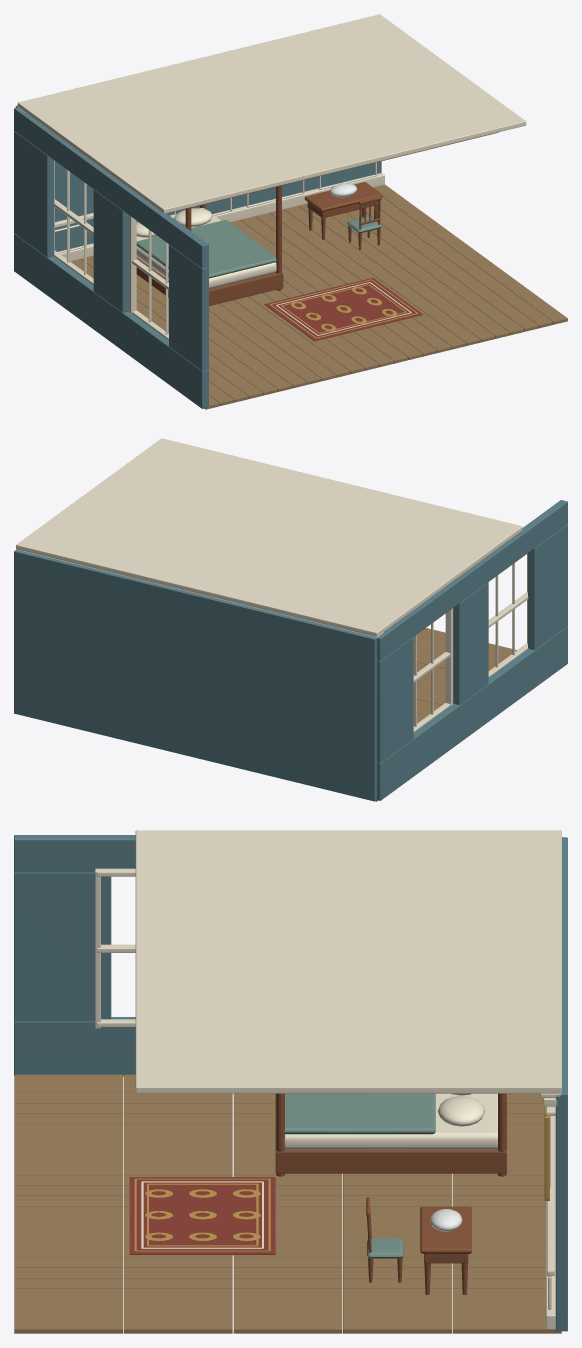
Rendered from bedroom.glb.
The picture shows the model from 3 angles, top to bottom: view 1: azimuth 30°, elevation 25°; view 2: azimuth 150°, elevation 25°; view 3: azimuth 270°, elevation 25°; orthographic projection. The views are drawn at different scales.
Visible parts, largest first — view 1: Plaster ceiling, Left wall sill, Left wall lintel, Woven carpet, Left wall pier.002, Left wall pier, Back wall, Left wall pier.001, Silk counterpane, Guest bed mahogany frame, Back moulding, Guest mattress (+53 smaller); view 2: Back wall, Plaster ceiling, Left wall sill, Left wall lintel, Left wall pier, Left wall pier.002, Left wall pier.001, Window casing.002; view 3: Plaster ceiling, Left wall pier, Woven carpet, Left wall sill, Silk counterpane, Guest bed mahogany frame, Guest mattress, Back wall, Left wall lintel, Mahogany tabletop, Individual oak floorboard.120, Individual oak floorboard.122 (+87 smaller).
Boxes of the visible parts, x1=… form: Plaster ceiling: x1=17, y1=14, x2=526, y2=213; Left wall sill: x1=14, y1=233, x2=208, y2=408; Left wall lintel: x1=14, y1=107, x2=208, y2=268; Woven carpet: x1=264, y1=277, x2=423, y2=341; Left wall pier.002: x1=14, y1=131, x2=54, y2=257; Left wall pier: x1=169, y1=244, x2=208, y2=370; Back wall: x1=15, y1=105, x2=381, y2=251; Left wall pier.001: x1=93, y1=189, x2=129, y2=312; Silk counterpane: x1=136, y1=220, x2=276, y2=278; Guest bed mahogany frame: x1=136, y1=257, x2=283, y2=305; Back moulding: x1=59, y1=173, x2=384, y2=261; Guest mattress: x1=136, y1=208, x2=276, y2=288; Back wall: x1=14, y1=549, x2=376, y2=801; Plaster ceiling: x1=16, y1=438, x2=522, y2=636; Left wall sill: x1=377, y1=626, x2=567, y2=800; Left wall lintel: x1=377, y1=500, x2=567, y2=660; Left wall pier: x1=528, y1=524, x2=567, y2=649; Left wall pier.002: x1=377, y1=637, x2=413, y2=762; Left wall pier.001: x1=453, y1=582, x2=488, y2=704; Window casing.002: x1=445, y1=608, x2=453, y2=705; Plaster ceiling: x1=135, y1=830, x2=561, y2=1093; Left wall pier: x1=14, y1=872, x2=111, y2=1021; Woven carpet: x1=129, y1=1177, x2=275, y2=1255; Left wall sill: x1=14, y1=1017, x2=135, y2=1076; Silk counterpane: x1=284, y1=1093, x2=435, y2=1134; Guest bed mahogany frame: x1=275, y1=1094, x2=506, y2=1173; Guest mattress: x1=284, y1=1093, x2=497, y2=1149; Back wall: x1=555, y1=837, x2=567, y2=1331; Left wall lintel: x1=14, y1=835, x2=135, y2=872; Mahogany tabletop: x1=420, y1=1206, x2=471, y2=1253; Individual oak floorboard.120: x1=14, y1=1319, x2=123, y2=1333; Individual oak floorboard.122: x1=233, y1=1319, x2=342, y2=1333.
Bounding box in the file's own units: 10.1 × 4.47 × 9.1.
